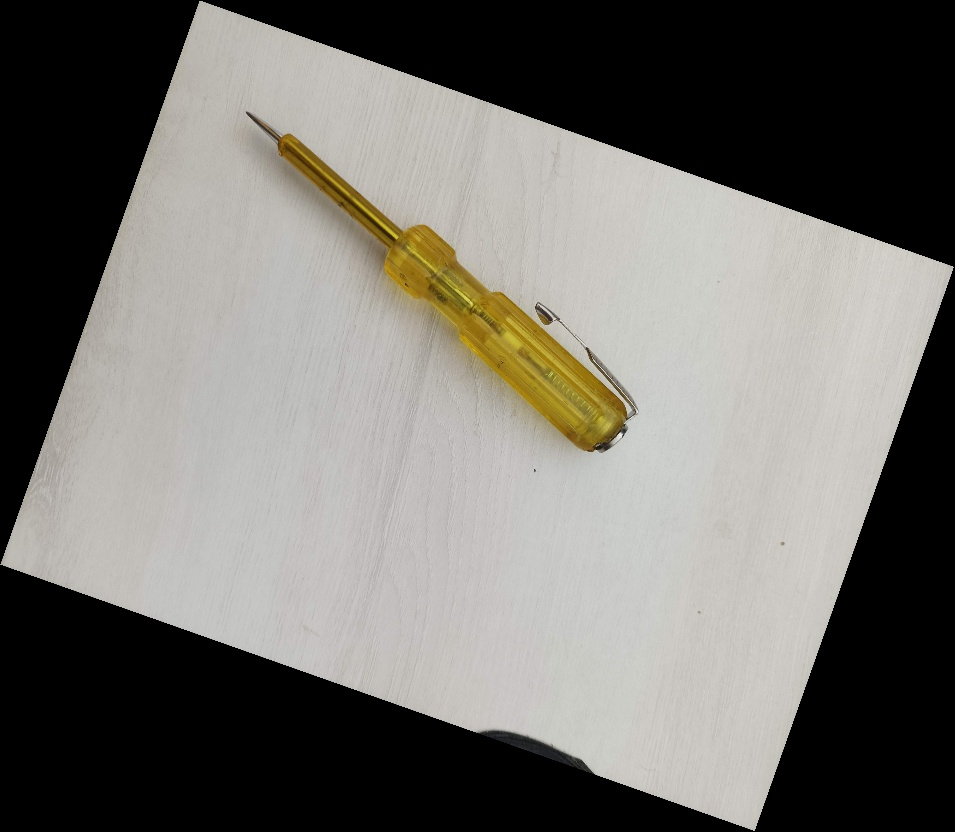screwdriver: (240, 106, 641, 456)
